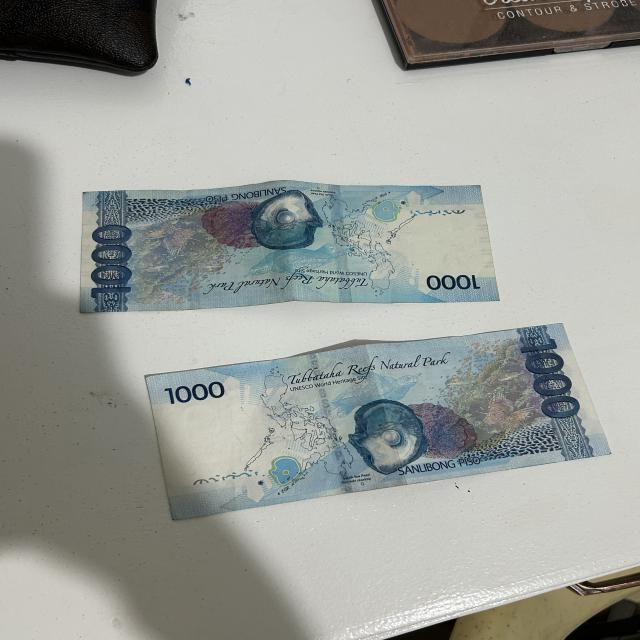1000_pearl: (252, 193, 321, 250), (358, 406, 423, 462)
1000_pearl_watermark: (268, 457, 302, 490), (371, 201, 400, 223)
value_watermark: (174, 444, 202, 480)
watermark: (160, 402, 265, 482), (392, 214, 478, 278)
